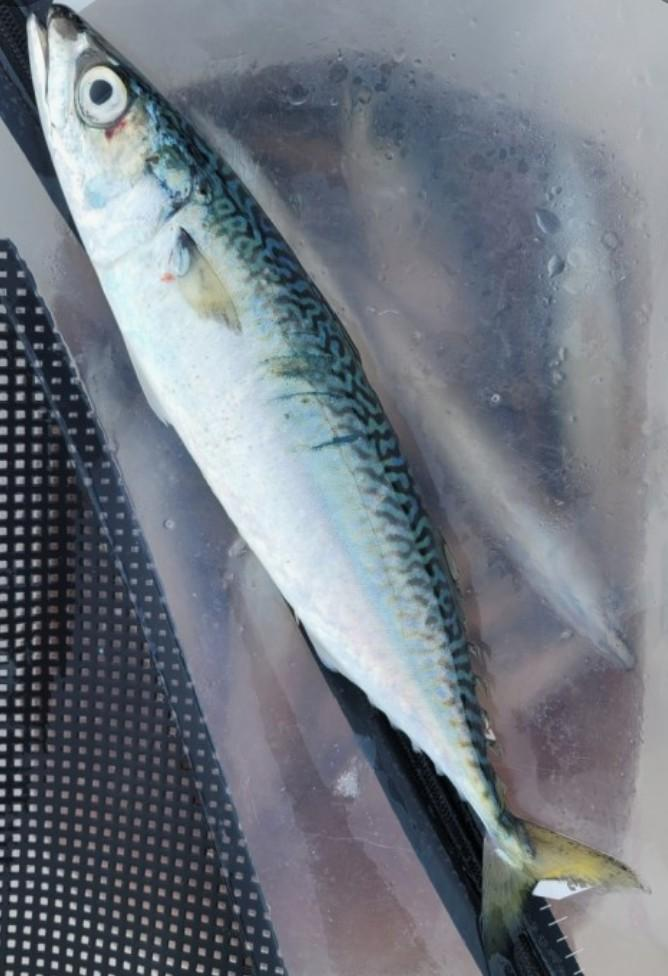fish: (28, 3, 644, 975)
